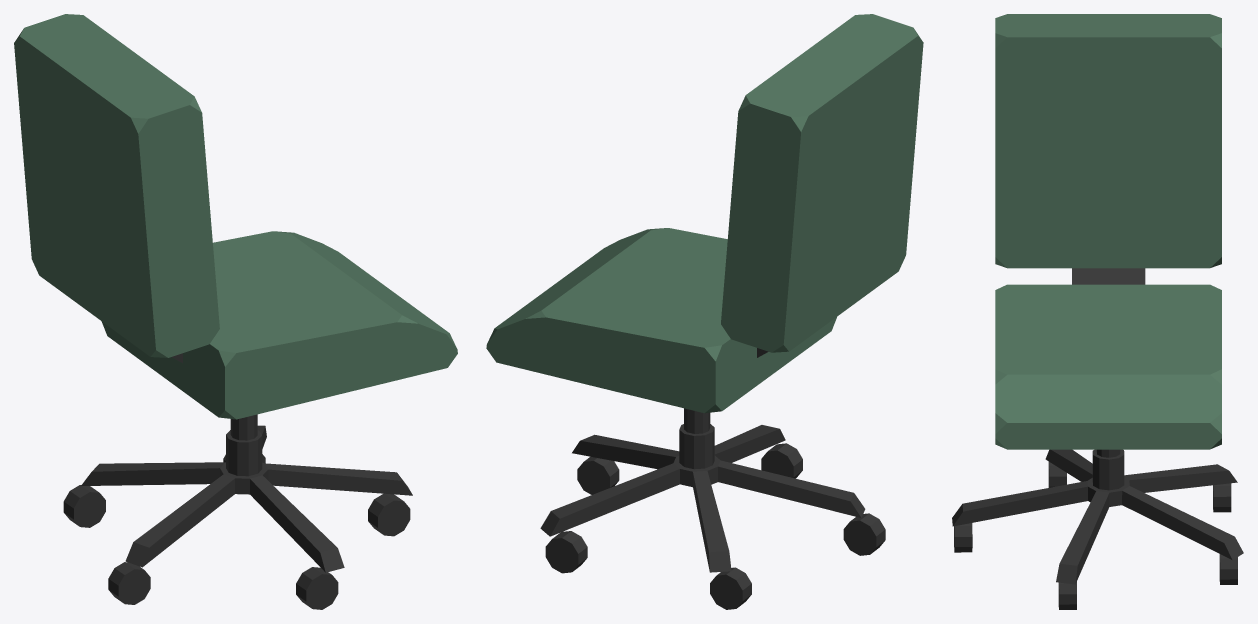
The model's file is BasicStol.fbx.
3 views of the same model, side by side, from view 1: azimuth 30°, elevation 25°; view 2: azimuth 150°, elevation 25°; view 3: azimuth 270°, elevation 25° (orthographic). The views are drawn at different scales.
Parts seen in each view (by area): view 1: Cube.002, Cylinder.015, Cylinder.014, Cylinder.011, Cylinder.013, Cylinder.010; view 2: Cube.002, Cylinder.015, Cylinder.012, Cylinder.010, Cylinder.011, Cylinder.014, Cylinder.013; view 3: Cube.002, Cylinder.015, Cylinder.011, Cylinder.013, Cylinder.012, Cylinder.014.
Part boxes in pixels (x1,y1,x2,y2): Cube.002: [14, 14, 457, 419]; Cylinder.015: [81, 414, 412, 572]; Cylinder.014: [368, 493, 410, 536]; Cylinder.011: [63, 485, 105, 527]; Cylinder.013: [296, 567, 338, 609]; Cylinder.010: [108, 562, 150, 604]; Cube.002: [486, 14, 923, 413]; Cylinder.015: [540, 408, 865, 572]; Cylinder.012: [545, 531, 587, 573]; Cylinder.010: [843, 513, 885, 555]; Cylinder.011: [710, 567, 751, 609]; Cylinder.014: [577, 456, 619, 494]; Cylinder.013: [761, 443, 802, 478]; Cube.002: [995, 14, 1221, 449]; Cylinder.015: [952, 449, 1243, 584]; Cylinder.011: [1213, 483, 1231, 512]; Cylinder.013: [954, 523, 972, 552]; Cylinder.012: [1219, 554, 1237, 584]; Cylinder.014: [1058, 581, 1076, 609].
Bounding box in the file's own units: 103 × 158 × 88.81.
